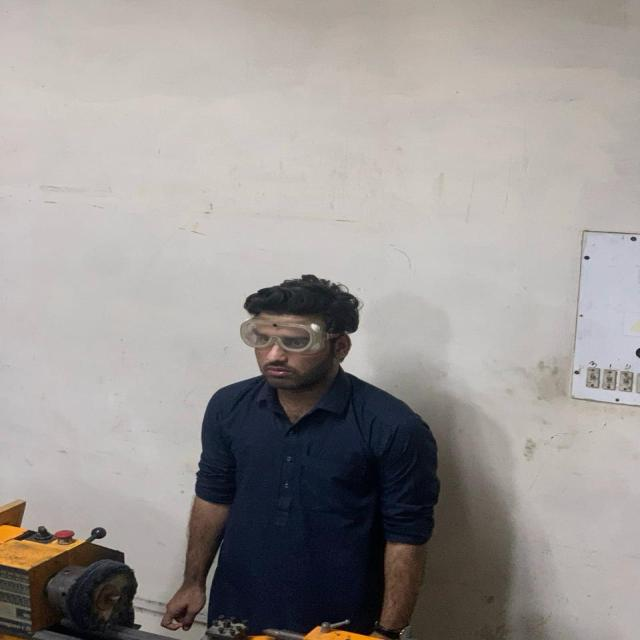googles: (238, 317, 324, 354)
